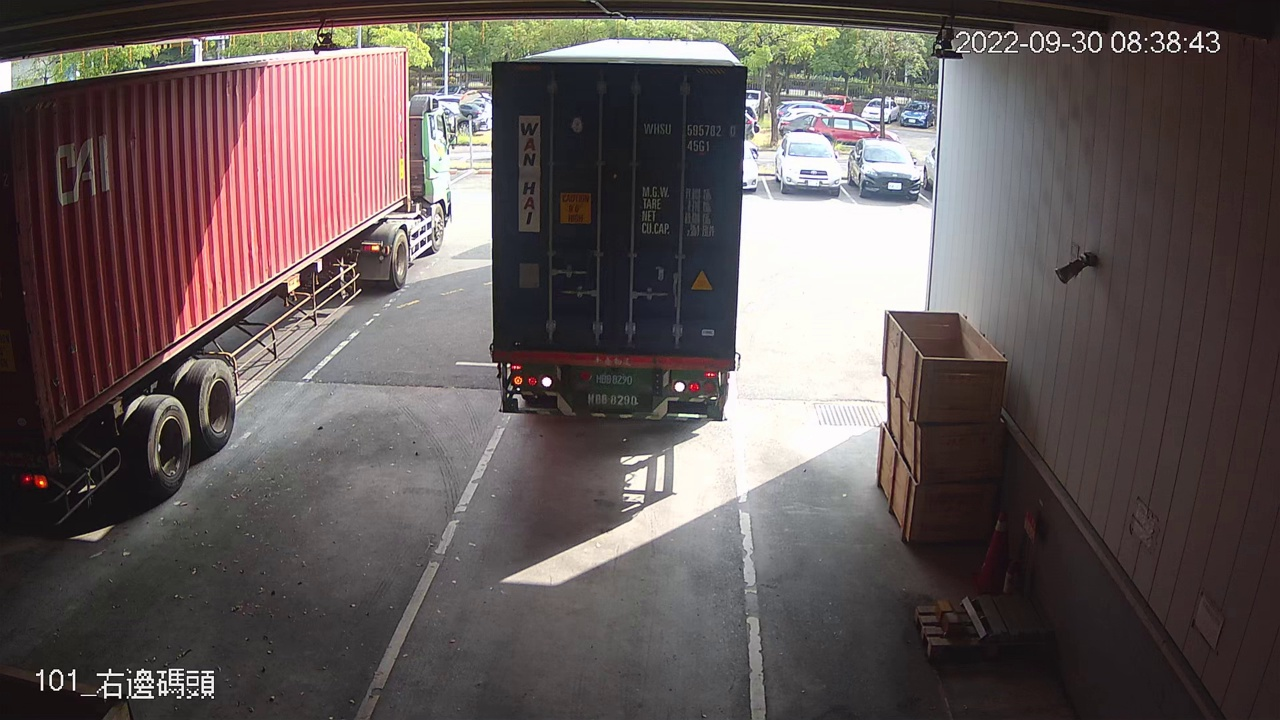container: (639, 117, 739, 156)
